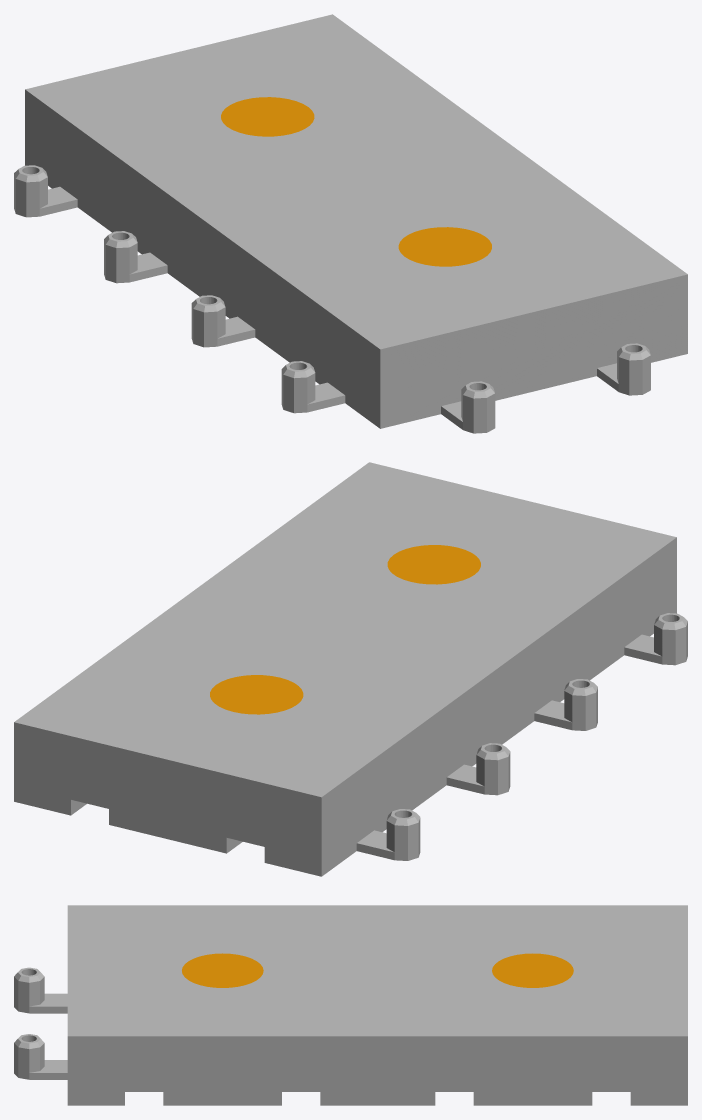
File: circuits-BaseplateBattery.glb
3 views of the same model, one above another, from view 1: azimuth 30°, elevation 25°; view 2: azimuth 150°, elevation 25°; view 3: azimuth 270°, elevation 25° (orthographic). The views are drawn at different scales.
Visible parts, largest first — view 1: BasePlate.001; view 2: BasePlate.001; view 3: BasePlate.001.
Part boxes in pixels (x1,y1,x2,y2): BasePlate.001: [14, 14, 687, 433]; BasePlate.001: [14, 462, 687, 876]; BasePlate.001: [14, 905, 687, 1105].
Bounding box in the file's own units: 0.095 × 0.02 × 0.176.
